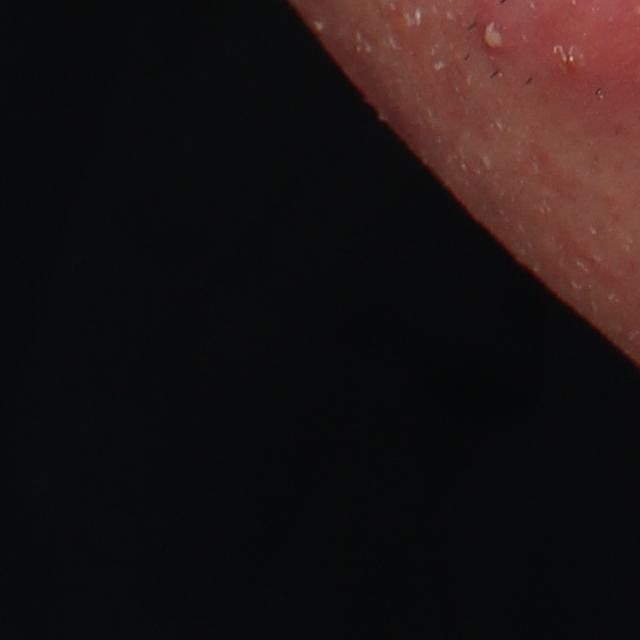pustule: (475, 14, 518, 61)
